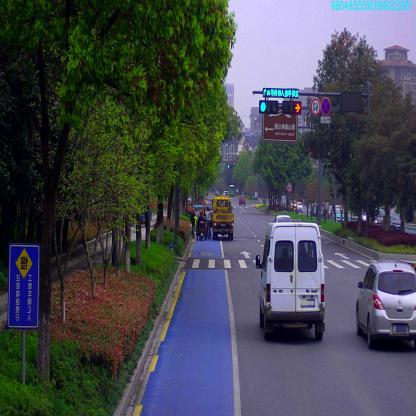traffic-light: (262, 89, 300, 100), (258, 100, 278, 113), (284, 102, 300, 112)
